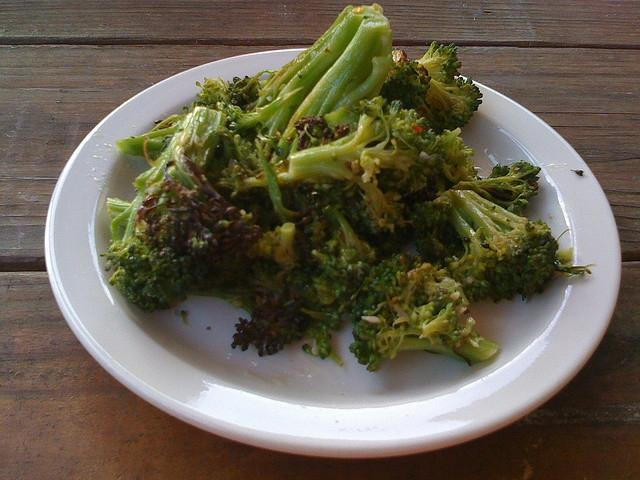broccoli: (217, 2, 396, 162), (100, 106, 227, 314), (349, 253, 499, 372), (440, 189, 560, 303), (360, 96, 446, 206), (230, 297, 314, 357), (451, 160, 541, 210), (248, 222, 319, 273), (426, 77, 483, 131), (284, 267, 346, 312), (378, 61, 432, 110), (441, 126, 482, 190), (414, 40, 462, 84), (311, 249, 351, 269)
